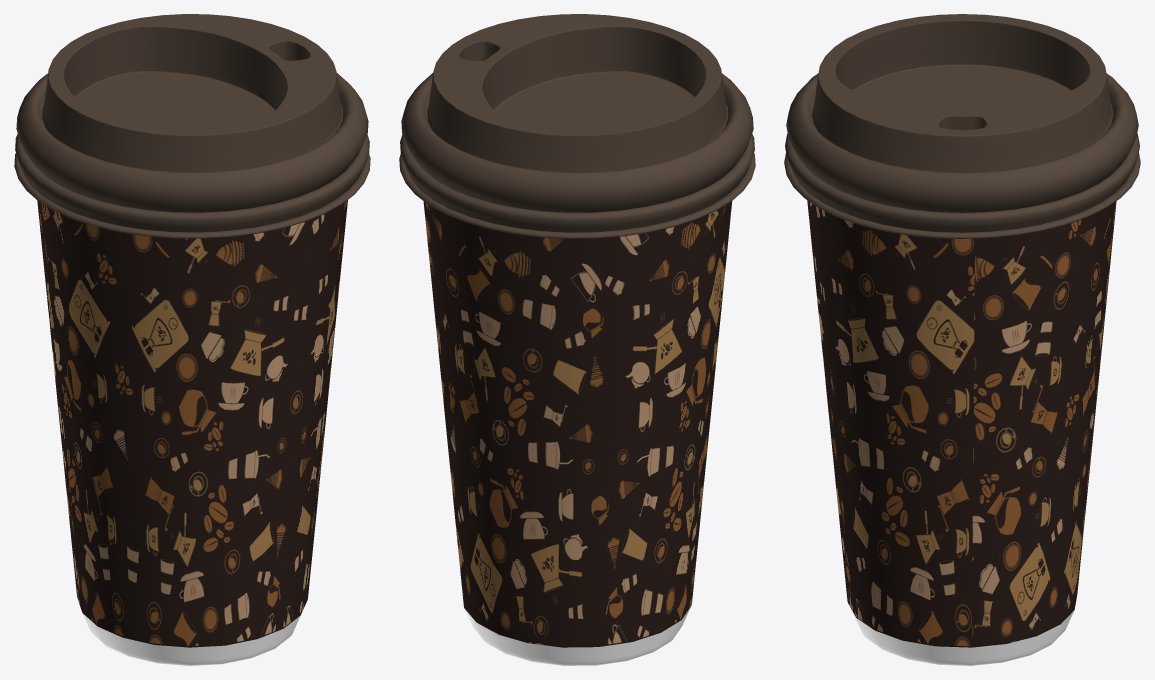
The picture shows the model from 3 angles, left to right: view 1: azimuth 30°, elevation 25°; view 2: azimuth 150°, elevation 25°; view 3: azimuth 270°, elevation 25°; orthographic projection.
Parts seen in each view (by area): view 1: cup_lid1; view 2: cup_lid1; view 3: cup_lid1.
Boxes of the visible parts, bbox=[...] form: cup_lid1: bbox=[14, 14, 370, 665]; cup_lid1: bbox=[399, 14, 755, 665]; cup_lid1: bbox=[784, 14, 1140, 665].
Size of the model in its own units: 2.04 by 3.47 by 2.04.
Materials: 4 (2 with a texture image).
